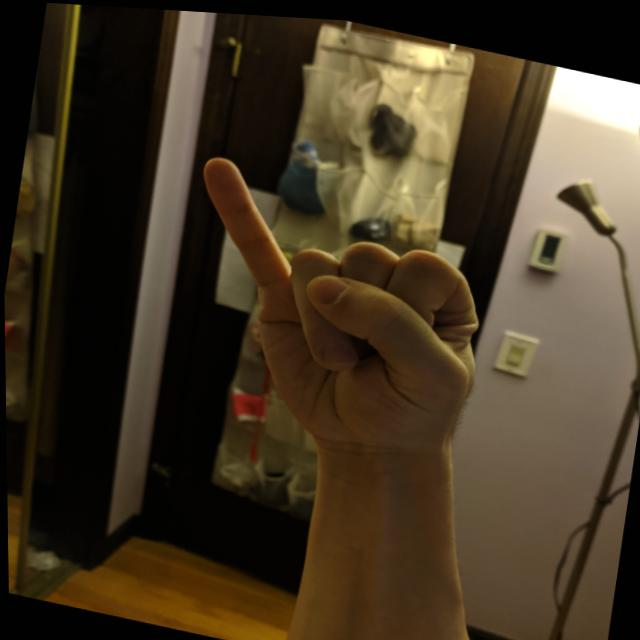I: (157, 142, 511, 476)
